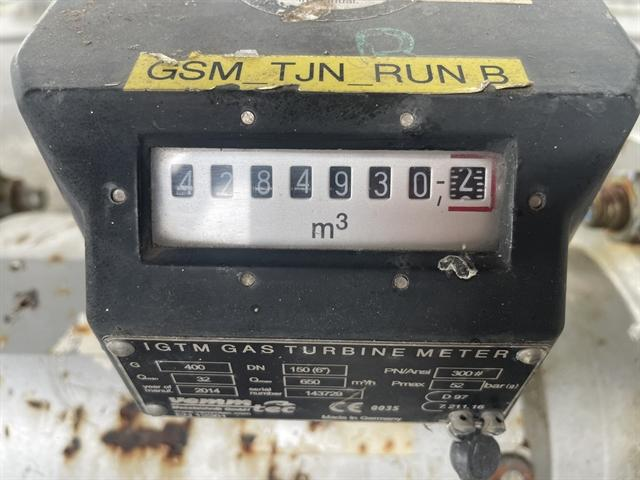analog_dial: (150, 146, 502, 252)
